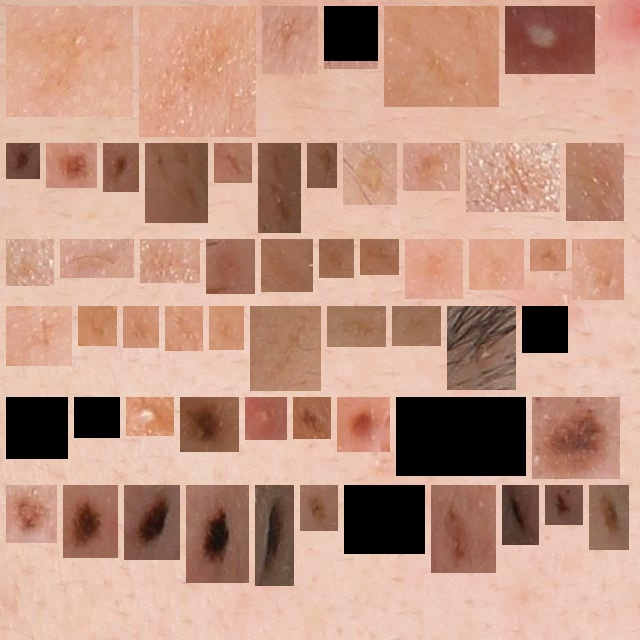melasma: (147, 14, 248, 129), (14, 14, 125, 109), (392, 14, 491, 99), (404, 405, 518, 468), (474, 151, 552, 204), (258, 314, 313, 383), (439, 493, 488, 565), (352, 493, 417, 546), (153, 151, 200, 215), (574, 151, 616, 213), (14, 314, 64, 358), (14, 405, 60, 451), (270, 14, 310, 66), (266, 151, 293, 225), (413, 247, 455, 291), (332, 14, 370, 61), (351, 151, 389, 197), (580, 247, 616, 292), (477, 247, 516, 282), (68, 247, 126, 270), (269, 247, 305, 284), (411, 151, 452, 183), (214, 247, 247, 286), (148, 247, 192, 275), (335, 314, 378, 339), (14, 247, 46, 278), (530, 314, 560, 345), (400, 314, 433, 338), (82, 405, 112, 430), (308, 493, 330, 523), (173, 314, 195, 343), (86, 314, 109, 338), (217, 314, 236, 342), (222, 151, 244, 175), (131, 314, 151, 340), (368, 247, 391, 267), (327, 247, 346, 270), (315, 151, 329, 180), (538, 247, 558, 263)
nevus: (540, 405, 612, 471), (194, 493, 241, 575), (455, 314, 508, 382), (132, 493, 172, 552), (71, 493, 110, 550), (263, 493, 286, 578), (188, 405, 231, 444), (14, 493, 49, 535), (345, 405, 382, 444), (597, 493, 621, 542), (54, 151, 89, 180), (510, 493, 531, 537), (111, 151, 131, 184), (301, 405, 323, 431), (553, 493, 575, 517), (14, 151, 32, 171)
pustule: (513, 14, 587, 66), (134, 405, 166, 428), (253, 405, 279, 432)
